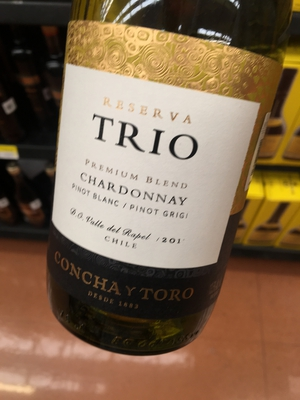trio chardonnay: (51, 8, 286, 348)
